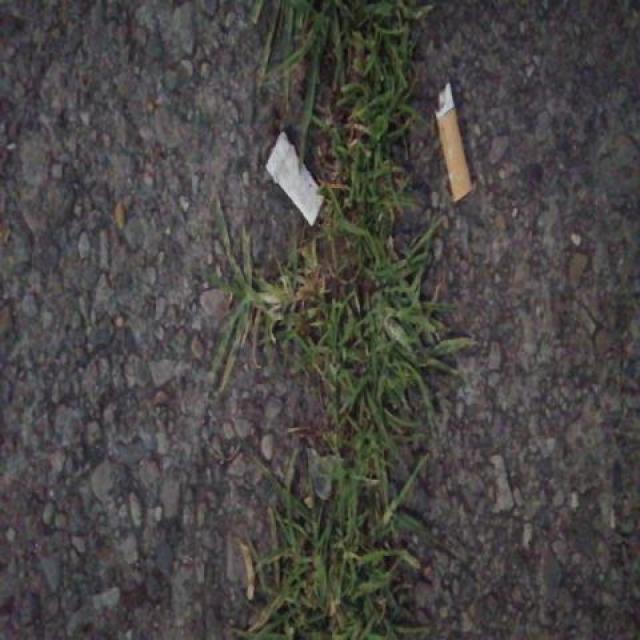non-organic waste: (260, 126, 328, 227), (427, 78, 478, 210)
